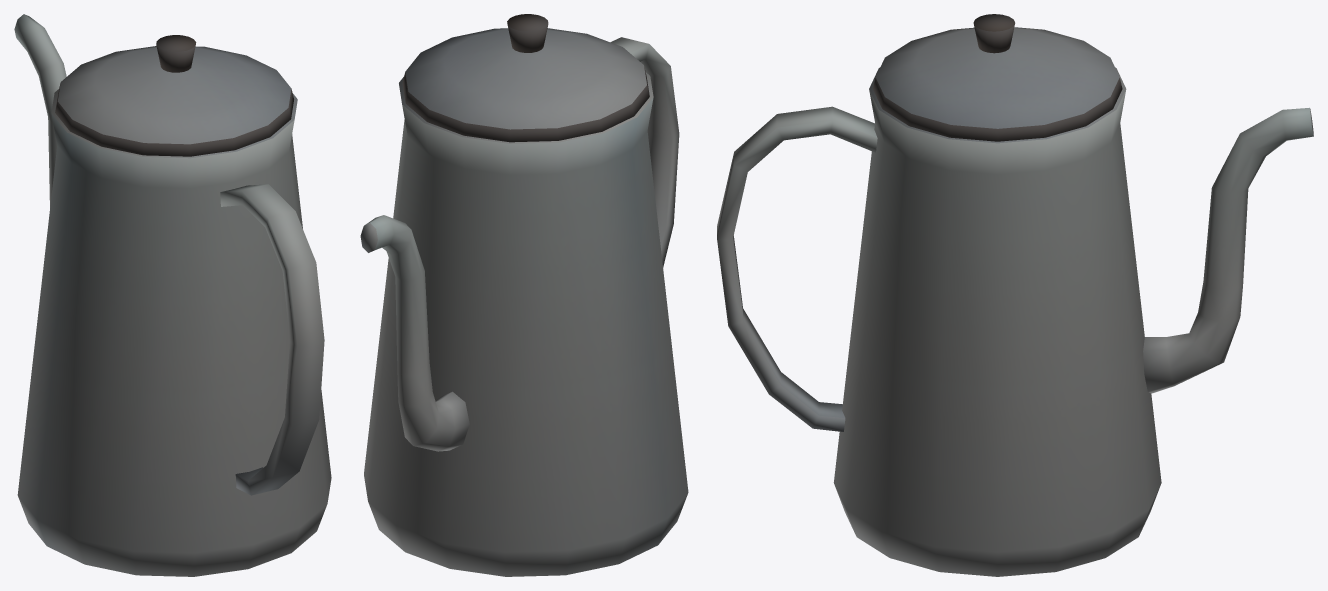
Rendered from porp_cettle02b.fbx.
The picture shows the model from 3 angles, left to right: view 1: azimuth 30°, elevation 25°; view 2: azimuth 150°, elevation 25°; view 3: azimuth 270°, elevation 25°; orthographic projection. The views are drawn at different scales.
Parts seen in each view (by area): view 1: porp_cettle02b; view 2: porp_cettle02b; view 3: porp_cettle02b.
Boxes of the visible parts, x1,y1,x2,y2 form: porp_cettle02b: [14, 14, 331, 576]; porp_cettle02b: [360, 14, 688, 576]; porp_cettle02b: [717, 14, 1313, 576].
Bounding box in the file's own units: 0.1608 × 0.2651 × 0.2928.
